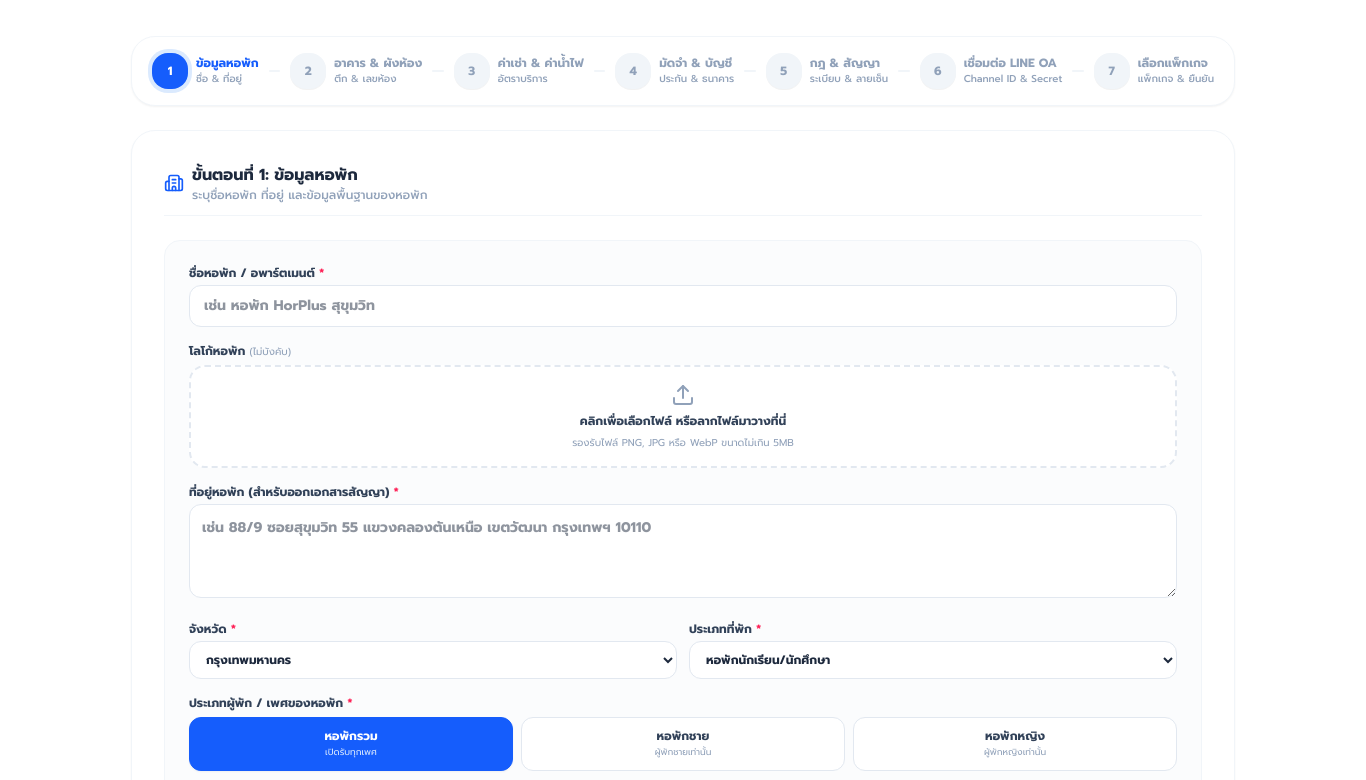
Test case: OWNER FINAL UAT CORRECTIONS — Comprehensive Suite › 7. Step 4 Badges Nowrap & Tier Footer Button Copy (Round 1.2) › Step 4 renders "ตั้งค่าตามตึก" and "ค่าปรับ" badges with whitespace-nowrap
// Fill Step 1
Step 1. Type "หอพักทดสอบ Step 4 Badges" into the field with placeholder "เช่น หอพัก HorPlus สุขุมวิท" → (683, 306), box [189,285,1177,327]
Step 2. Replace the text in the text box with placeholder "เช่น 88/9 ซอยสุขุมวิท 55 แขวงคลองตันเหนือ เขตวัฒนา กรุงเทพฯ 10110" with "123/45 ถนนทดสอบ" → (683, 551), box [189,504,1177,598]
(page scrolled)
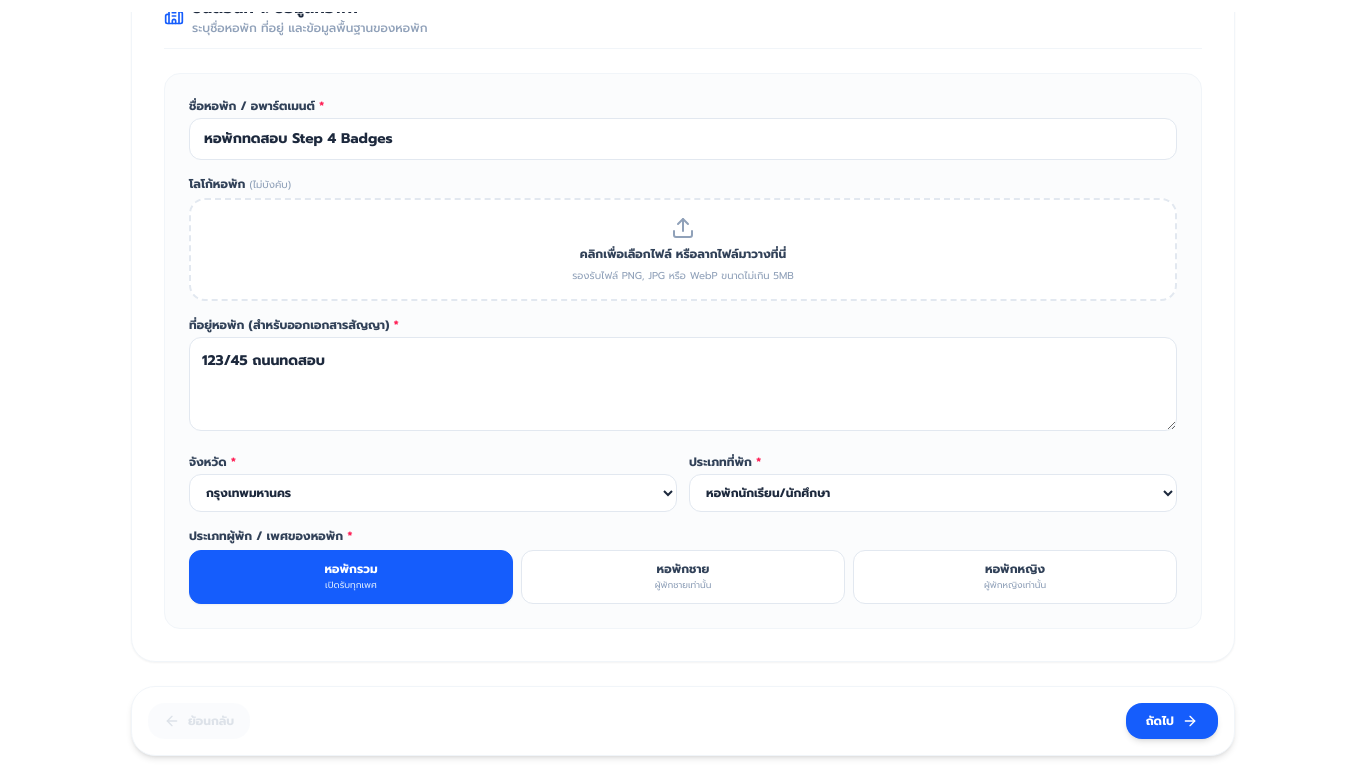
Step 3. Click the button "ถัดไป" → (1172, 721), box [1126,703,1218,739]
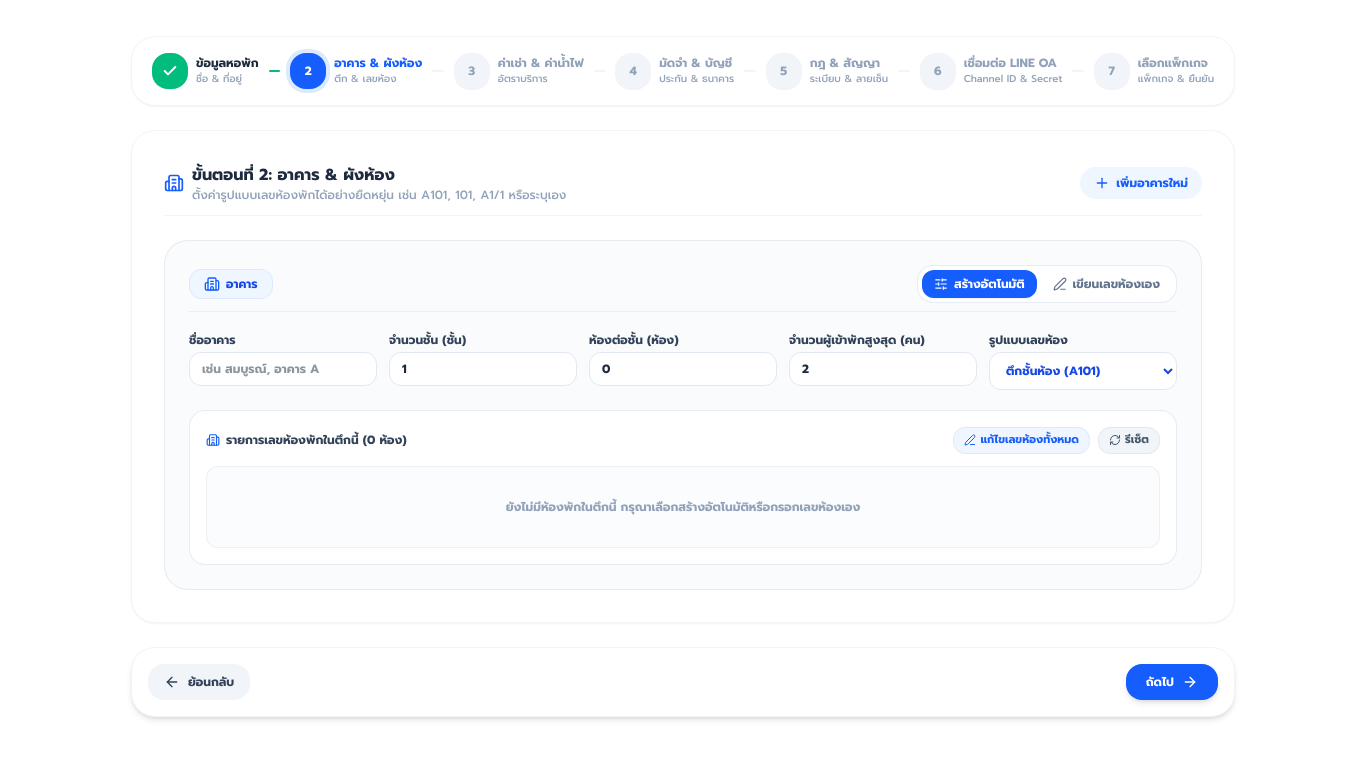
Now the heading "ขั้นตอนที่ 2: อาคาร & ผังห้อง" is shown, box [192,163,395,187]
Step 4. Replace the text in the field with placeholder "ระบุห้องต่อชั้น" below "ห้องต่อชั้น (ห้อง)" with "2" → (683, 369), box [589,352,777,386]
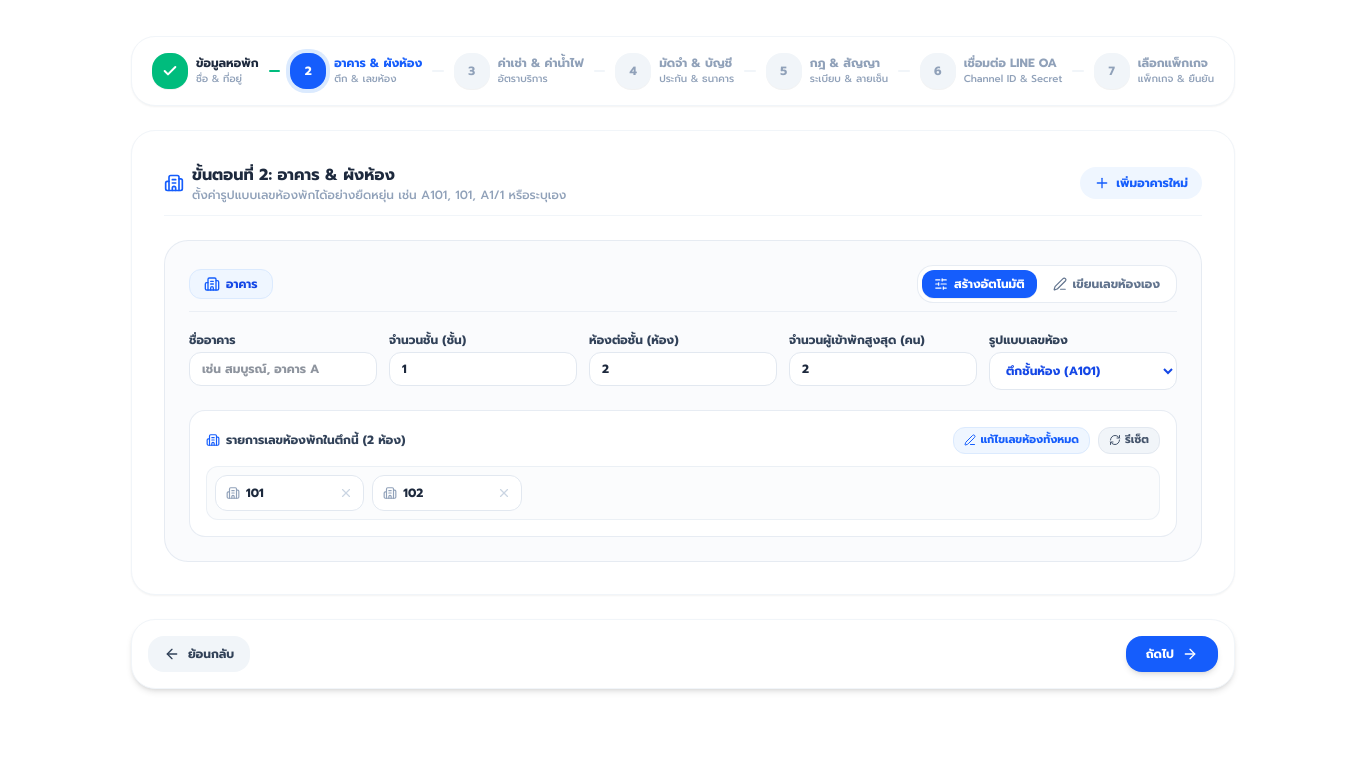
Step 5. Click the button "ถัดไป" → (1172, 654), box [1126,636,1218,672]
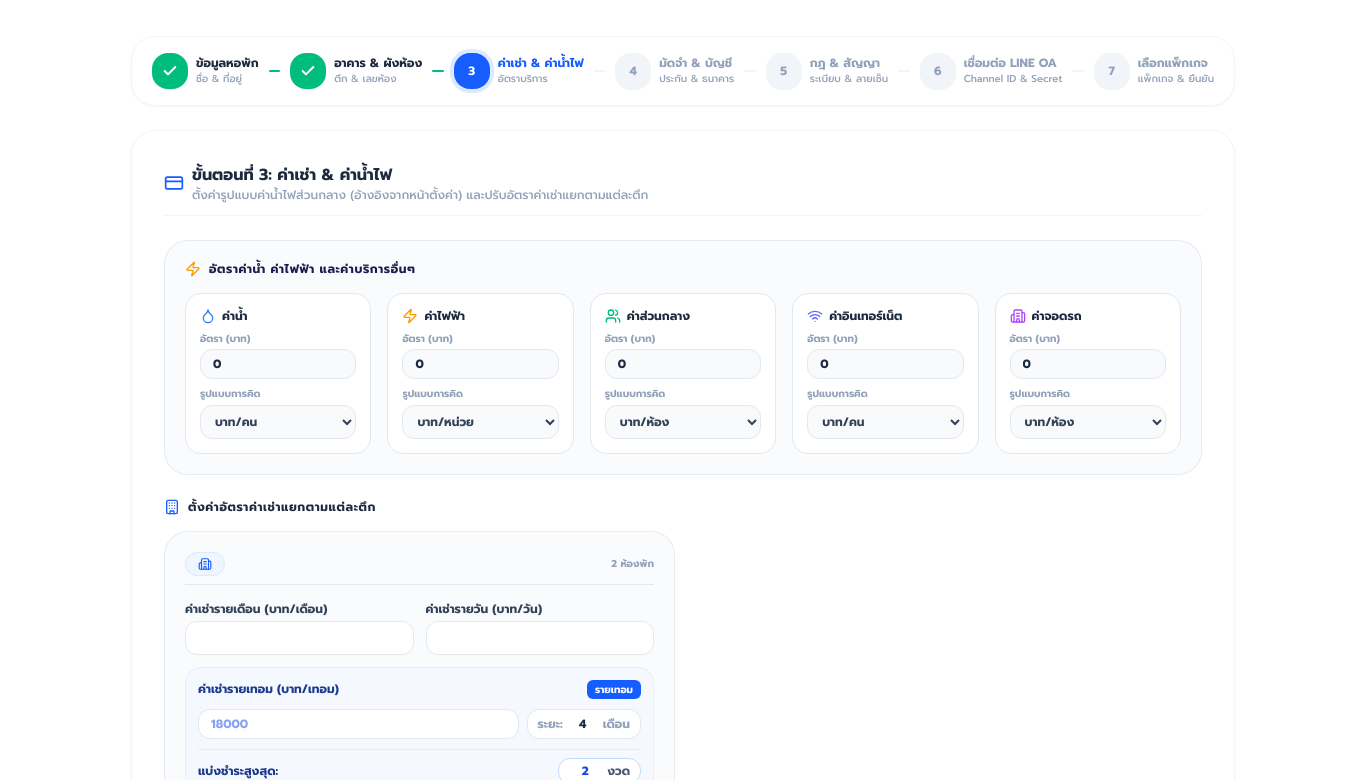
Now the heading "ขั้นตอนที่ 3: ค่าเช่า & ค่าน้ำไฟ" is shown, box [192,163,392,187]
Step 6. Type "3500" into the field with test id "input-building-monthly-rent-0" → (299, 638), box [185,621,414,655]
(page scrolled)
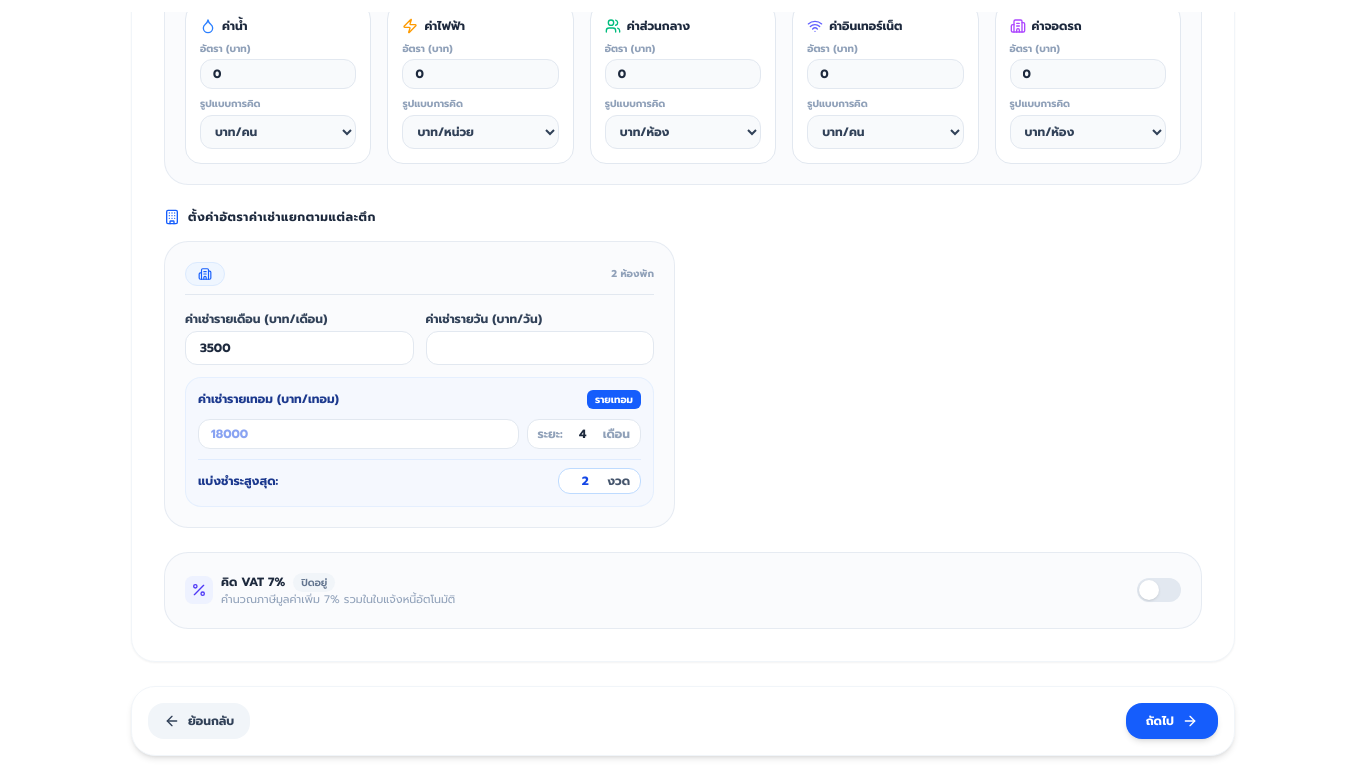
Step 7. Click the button "ถัดไป" → (1172, 721), box [1126,703,1218,739]
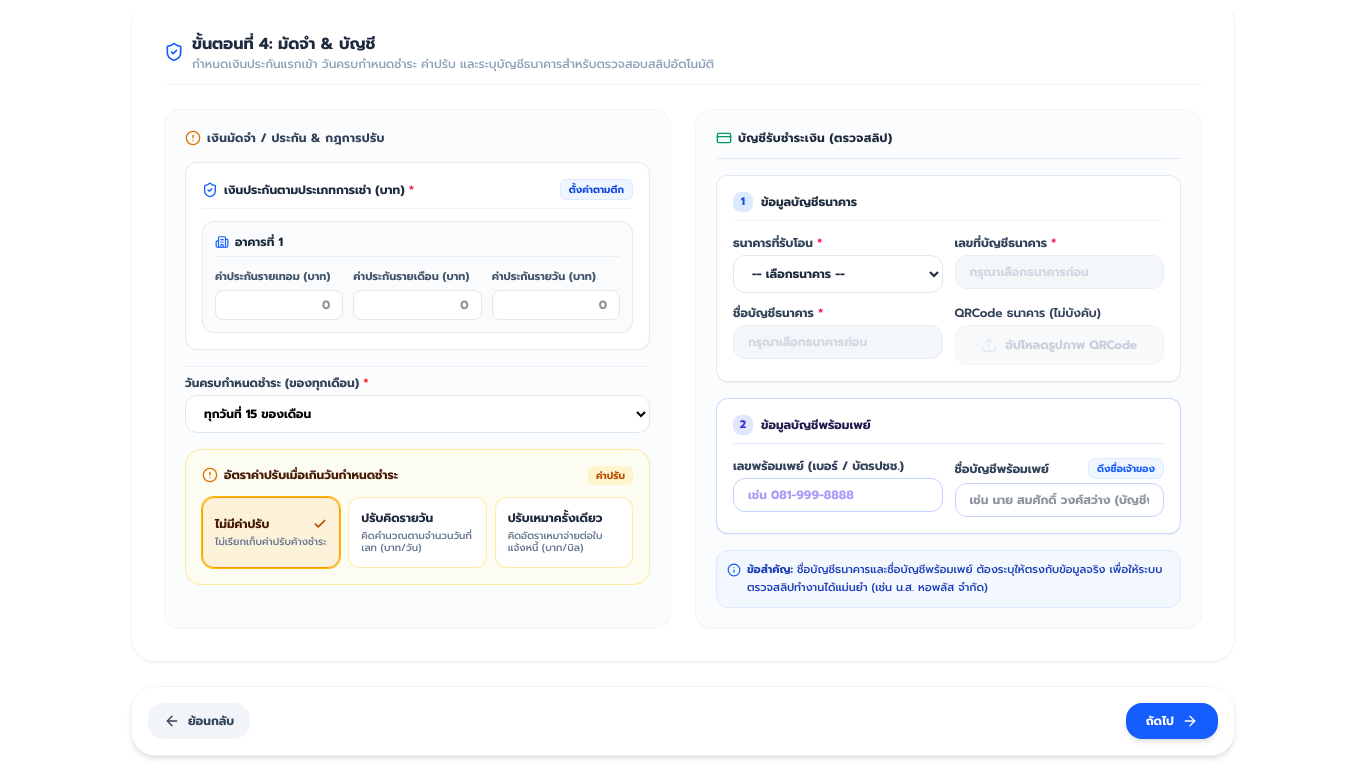
Now the heading "ขั้นตอนที่ 4: มัดจำ & บัญชี" is shown, box [192,32,376,56]
Now the text "ตั้งค่าตามตึก" is shown, box [560,179,633,200]
Now the text "ค่าปรับ" is shown, box [588,466,633,484]
